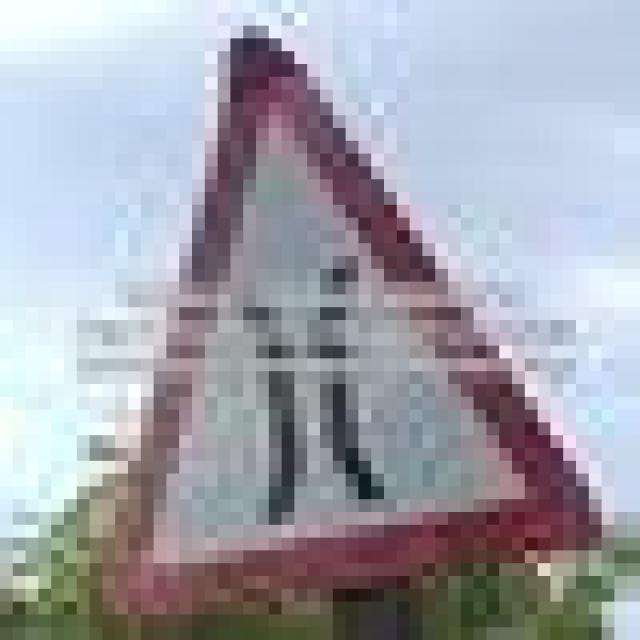narrow bridge ahead: (76, 28, 621, 610)
